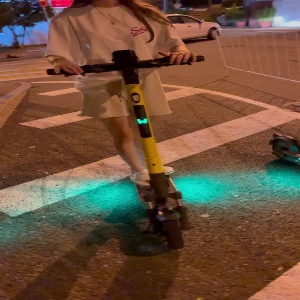human on a scooter: (44, 1, 206, 250)
